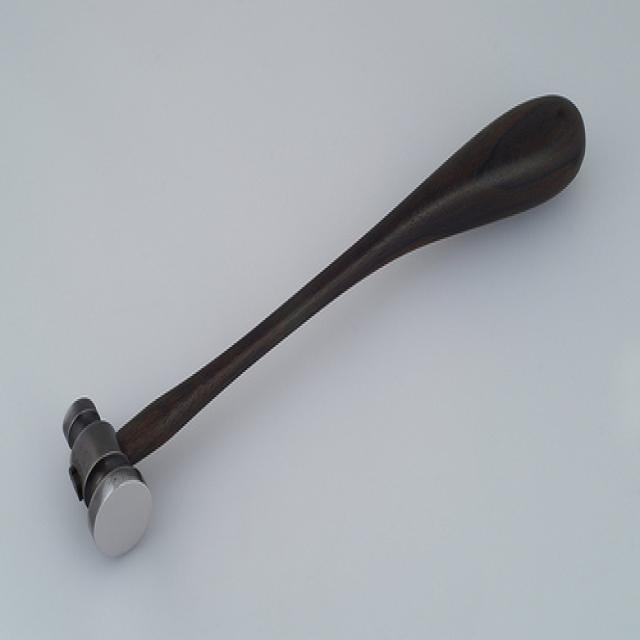hammer: (30, 193, 421, 578)
